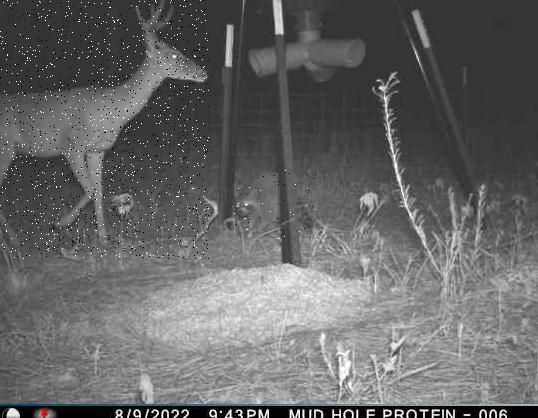Deer: (0, 0, 209, 259)
Raccoon: (233, 170, 318, 242)
